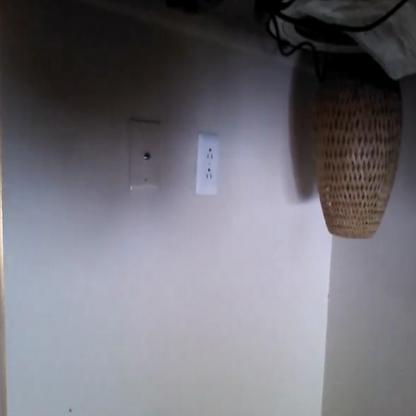OUTLET: (196, 134, 219, 196)
